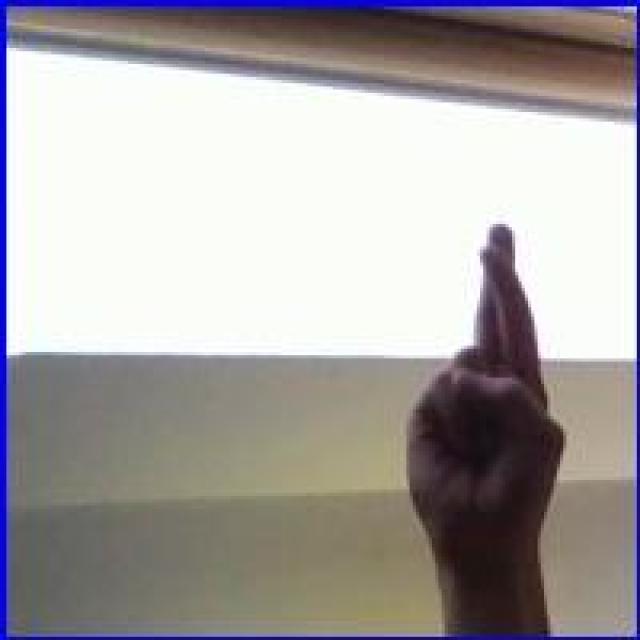R: (400, 216, 570, 565)
